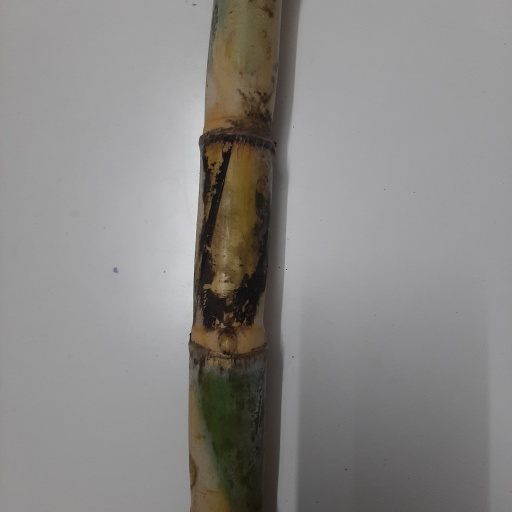Bud: (215, 327, 240, 356)
